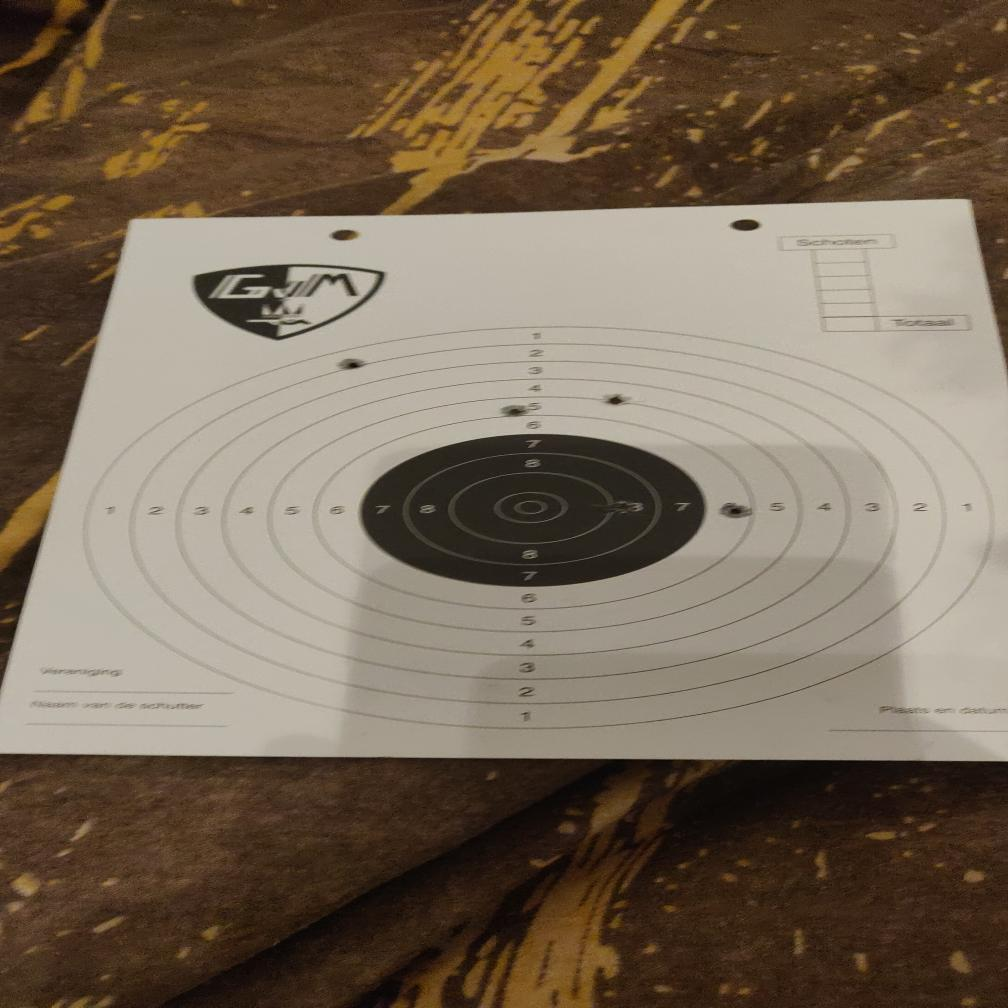2: (332, 358, 365, 371)
5: (598, 390, 635, 408), (495, 402, 534, 418)
6: (716, 500, 757, 520)
9: (600, 496, 648, 516)
Target: (90, 325, 998, 730)
black_contour: (361, 433, 707, 587)
